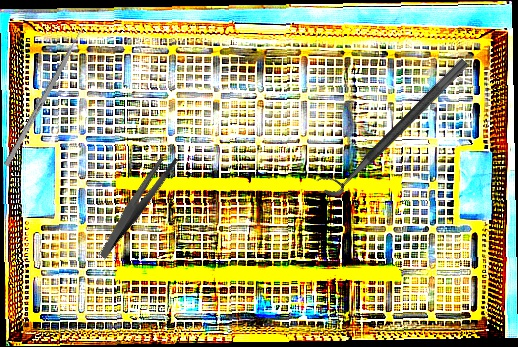Dressing Forceps: (77, 150, 197, 260)
Fixation Ring: (314, 46, 470, 202)
Pusher: (3, 17, 91, 167)
